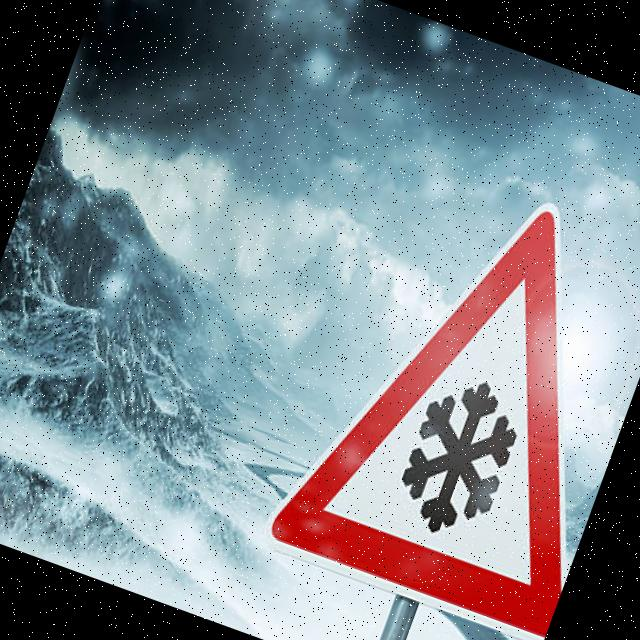snow_warning: (249, 142, 640, 640)
